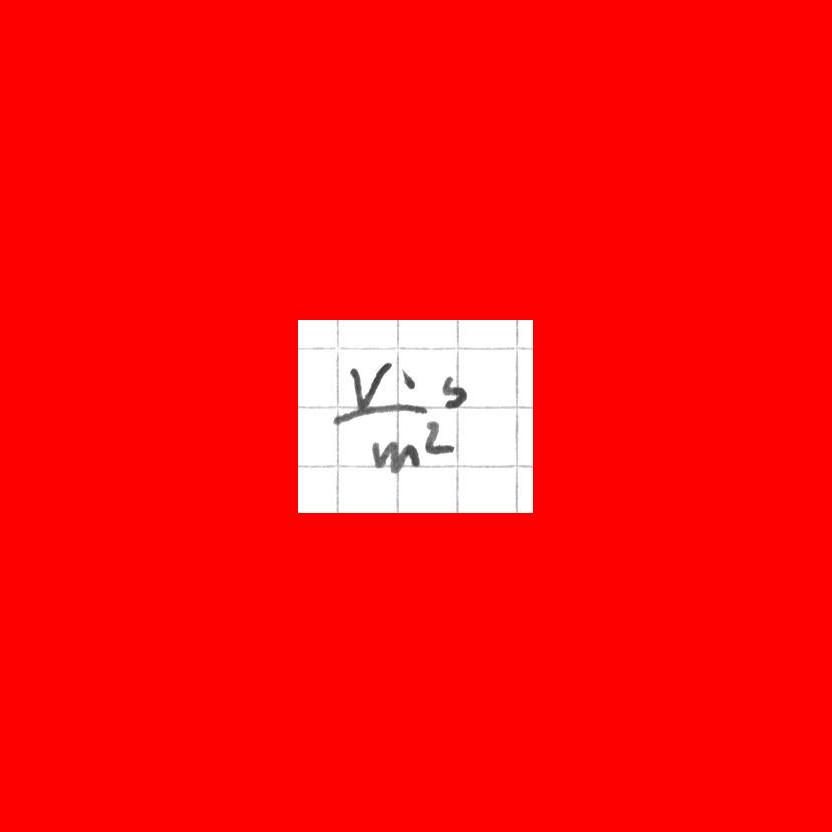Char: (339, 358, 391, 415), (330, 402, 427, 425), (369, 435, 419, 474), (424, 419, 454, 459), (438, 373, 467, 411), (398, 366, 421, 393)
